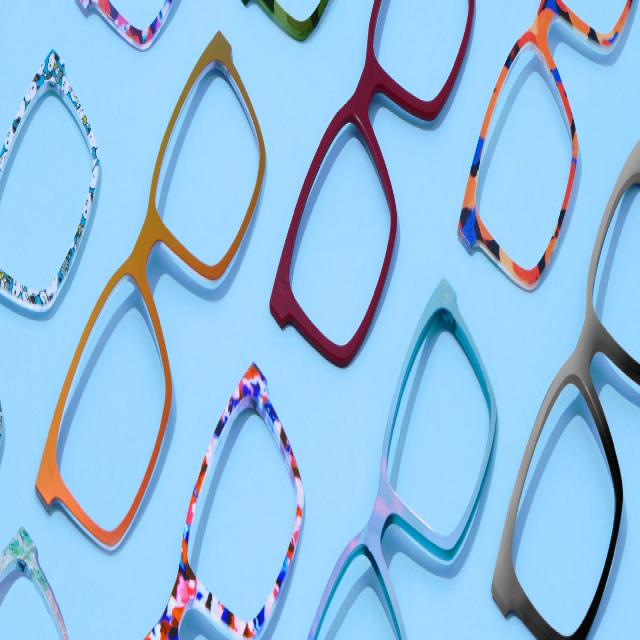glasses: (35, 32, 265, 546)
